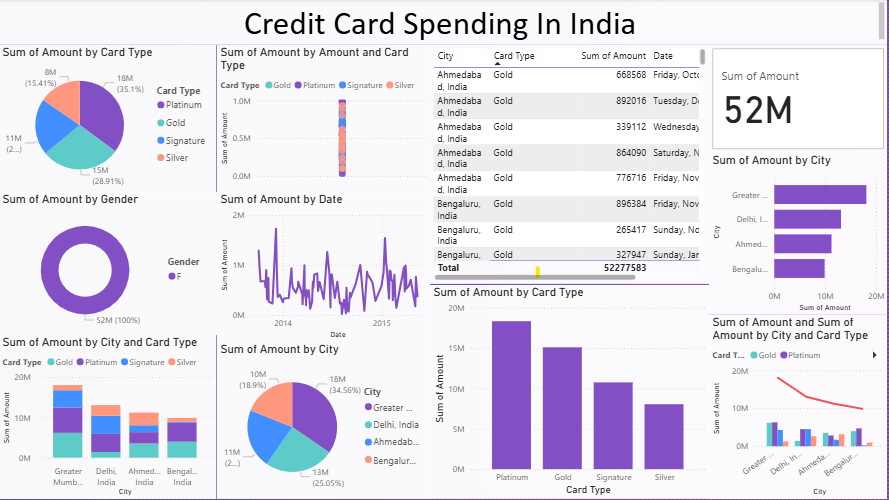

The dashboard page shown, as its layout file describes it:
{"tool":"powerbi","page":{"name":"Page 1","canvas":[1280,720],"ordinal":0},"visuals":[{"type":"cardVisual","fields":{"Data":["Sum(Credit Card Spending in India.Amount)"]},"box":[1022.4,66.2,257.8,155.5],"z":0},{"type":"pieChart","fields":{"Category":["Credit Card Spending in India.Card Type"],"Y":["Sum(Credit Card Spending in India.Amount)"]},"box":[0,66.7,313.3,211.7],"z":1000},{"type":"textbox","box":[0,0,1280.2,66.2],"z":2000},{"type":"pieChart","fields":{"Category":["Credit Card Spending in India.City"],"Y":["Sum(Credit Card Spending in India.Amount)"]},"box":[313.9,493.9,306.7,226.1],"z":3000},{"type":"columnChart","fields":{"Y":["Sum(Credit Card Spending in India.Amount)"],"Series":["Credit Card Spending in India.Card Type"],"Category":["Credit Card Spending in India.City"]},"box":[0,483.3,313.3,236.7],"z":4000},{"type":"lineChart","fields":{"Category":["Credit Card Spending in India.Date"],"Y":["Sum(Credit Card Spending in India.Amount)"]},"box":[313.9,277.9,306.7,216],"z":5000},{"type":"donutChart","fields":{"Category":["Credit Card Spending in India.Gender"],"Y":["Sum(Credit Card Spending in India.Amount)"]},"box":[0,278,314,206],"z":6000},{"type":"scatterChart","fields":{"Category":["Credit Card Spending in India.Amount"],"Series":["Credit Card Spending in India.Card Type"],"Y":["Sum(Credit Card Spending in India.Amount)"]},"box":[313.9,66.2,306.7,211.7],"z":7000},{"type":"tableEx","fields":{"Values":["Credit Card Spending in India.City","Credit Card Spending in India.Card Type","Sum(Credit Card Spending in India.Amount)","Credit Card Spending in India.Date"]},"box":[620.6,66.2,401.8,344.2],"z":8000},{"type":"barChart","fields":{"Y":["Sum(Credit Card Spending in India.Amount)"],"Category":["Credit Card Spending in India.City"]},"box":[1022.4,221.8,257.8,233.3],"z":9000},{"type":"lineClusteredColumnComboChart","fields":{"Y":["Sum(Credit Card Spending in India.Amount)"],"Y2":["Sum(Credit Card Spending in India.Amount)"],"Series":["Credit Card Spending in India.Card Type"],"Category":["Credit Card Spending in India.City"]},"box":[1022.4,455,257.8,265],"z":10000},{"type":"columnChart","fields":{"Category":["Credit Card Spending in India.Card Type"],"Y":["Sum(Credit Card Spending in India.Amount)"]},"box":[620.6,411.8,401.8,308.2],"z":11000}]}

Visuals, with their boxes in screenshot pixels (x1, y1, x2, y2), scaled from the page's 1280x720 canvas onto the 889x500 screenshot:
cardVisual - Sum(Credit Card Spending in India.Amount): <bbox>710, 46, 888, 154</bbox>
pieChart - Credit Card Spending in India.Card Type x Sum(Credit Card Spending in India.Amount): <bbox>0, 46, 218, 193</bbox>
textbox: <bbox>0, 0, 888, 46</bbox>
pieChart - Credit Card Spending in India.City x Sum(Credit Card Spending in India.Amount): <bbox>218, 343, 431, 499</bbox>
columnChart - Sum(Credit Card Spending in India.Amount) x Credit Card Spending in India.Card Type: <bbox>0, 336, 218, 499</bbox>
lineChart - Credit Card Spending in India.Date x Sum(Credit Card Spending in India.Amount): <bbox>218, 193, 431, 343</bbox>
donutChart - Credit Card Spending in India.Gender x Sum(Credit Card Spending in India.Amount): <bbox>0, 193, 218, 336</bbox>
scatterChart - Credit Card Spending in India.Amount x Credit Card Spending in India.Card Type: <bbox>218, 46, 431, 193</bbox>
tableEx - Credit Card Spending in India.City x Credit Card Spending in India.Card Type: <bbox>431, 46, 710, 285</bbox>
barChart - Sum(Credit Card Spending in India.Amount) x Credit Card Spending in India.City: <bbox>710, 154, 888, 316</bbox>
lineClusteredColumnComboChart - Sum(Credit Card Spending in India.Amount) x Sum(Credit Card Spending in India.Amount): <bbox>710, 316, 888, 499</bbox>
columnChart - Credit Card Spending in India.Card Type x Sum(Credit Card Spending in India.Amount): <bbox>431, 286, 710, 499</bbox>
